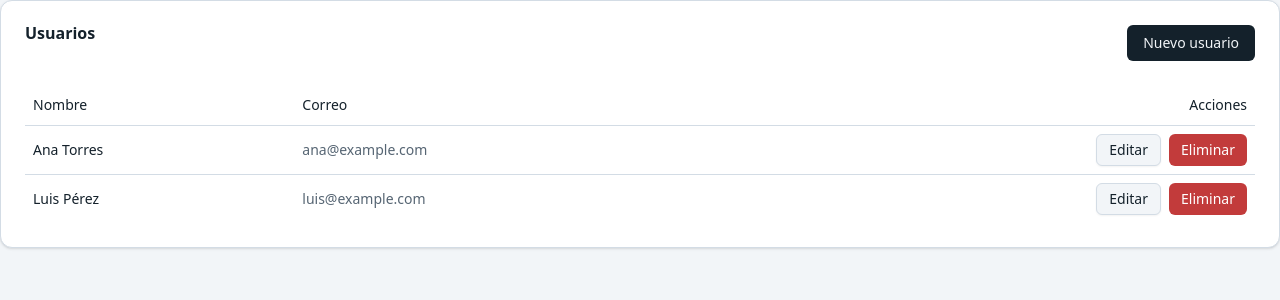
Test: crear usuario › navega al formulario y vuelve al listado tras crear
Step 1. Click the link "Nuevo usuario" → click(1191, 43), box 1127,25 -> 1255,61
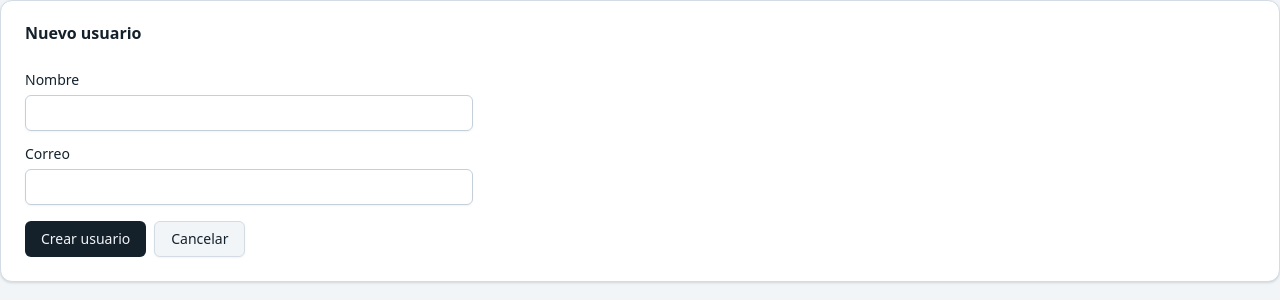
Step 2. Type "Marta" into the field labelled "Nombre" → (249, 113), box 25,95 -> 473,131
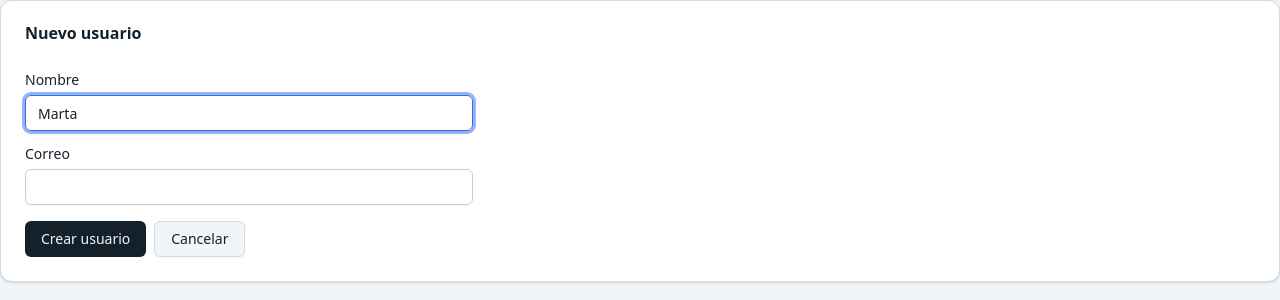
Step 3. Type "marta@example.com" into the field labelled "Correo" → (249, 187), box 25,169 -> 473,205
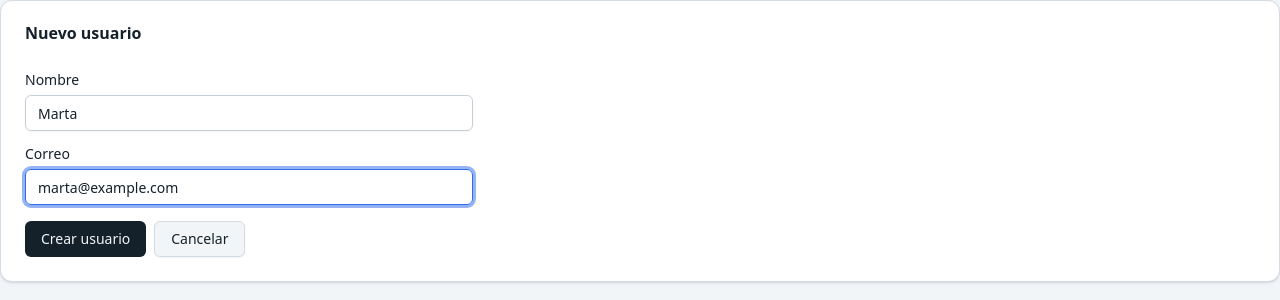
Step 4. Click the button "Crear usuario" → click(86, 239), box 25,221 -> 146,257
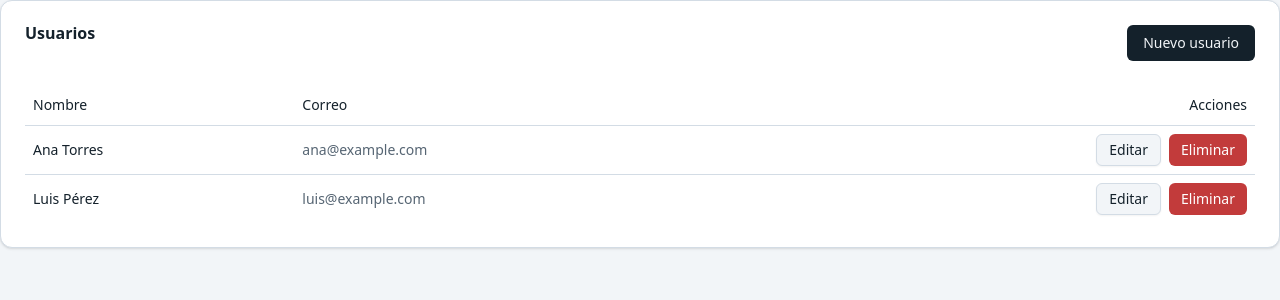
Now the text "Usuarios" is shown, box 25,22 -> 95,44
